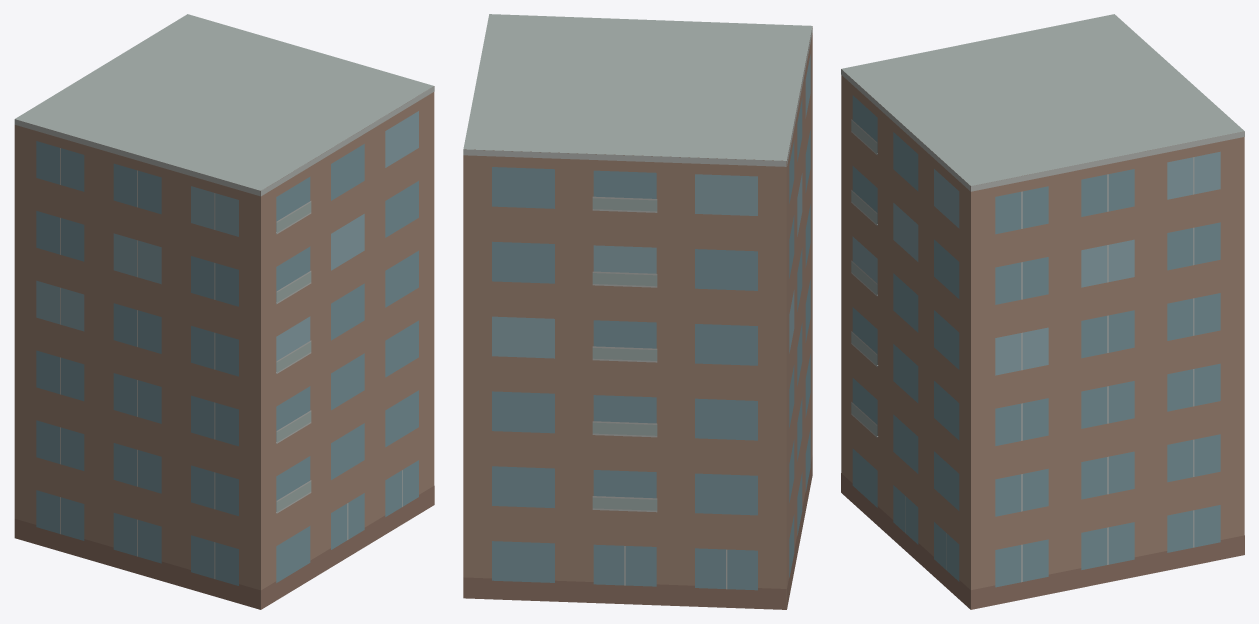
Rendered from survey-upis-32913461.glb.
The picture shows the model from 3 angles, left to right: view 1: azimuth 30°, elevation 25°; view 2: azimuth 150°, elevation 25°; view 3: azimuth 270°, elevation 25°; orthographic projection. The views are drawn at different scales.
Parts seen in each view (by area): view 1: survey-upis-32913461.tmp; view 2: survey-upis-32913461.tmp; view 3: survey-upis-32913461.tmp.
Boxes of the visible parts, bbox=[...] form: survey-upis-32913461.tmp: bbox=[14, 14, 434, 609]; survey-upis-32913461.tmp: bbox=[463, 14, 812, 609]; survey-upis-32913461.tmp: bbox=[841, 14, 1244, 609].
Size of the model in its own units: 15.95 by 18.3 by 15.81.
